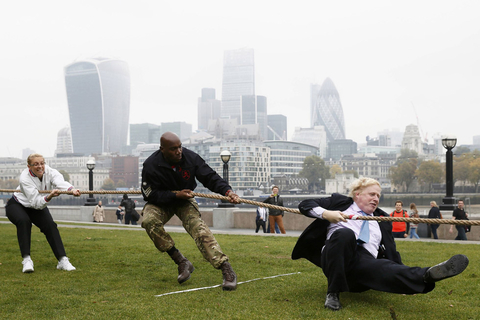10+: (1, 126, 474, 290)
down: (290, 160, 472, 310)
